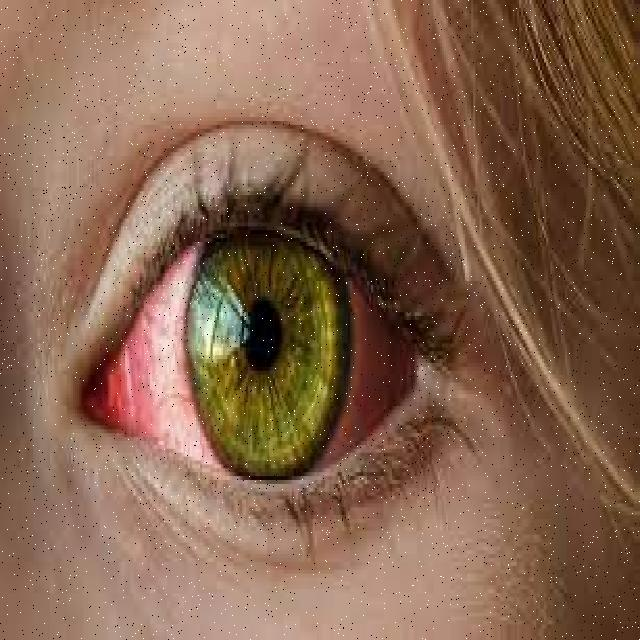Conjunctivitis: (72, 219, 460, 481)
